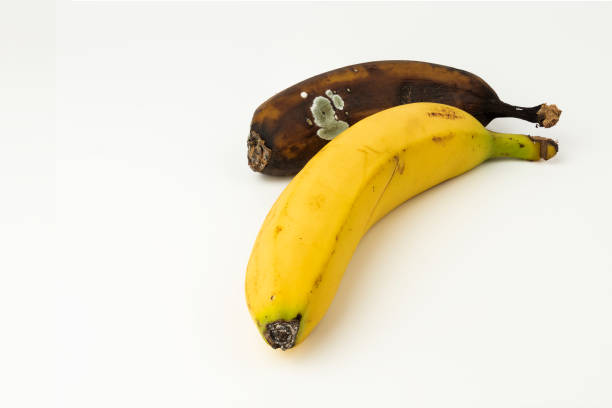fresh_banana: (245, 102, 559, 350)
rotten_banana: (249, 59, 560, 177)
